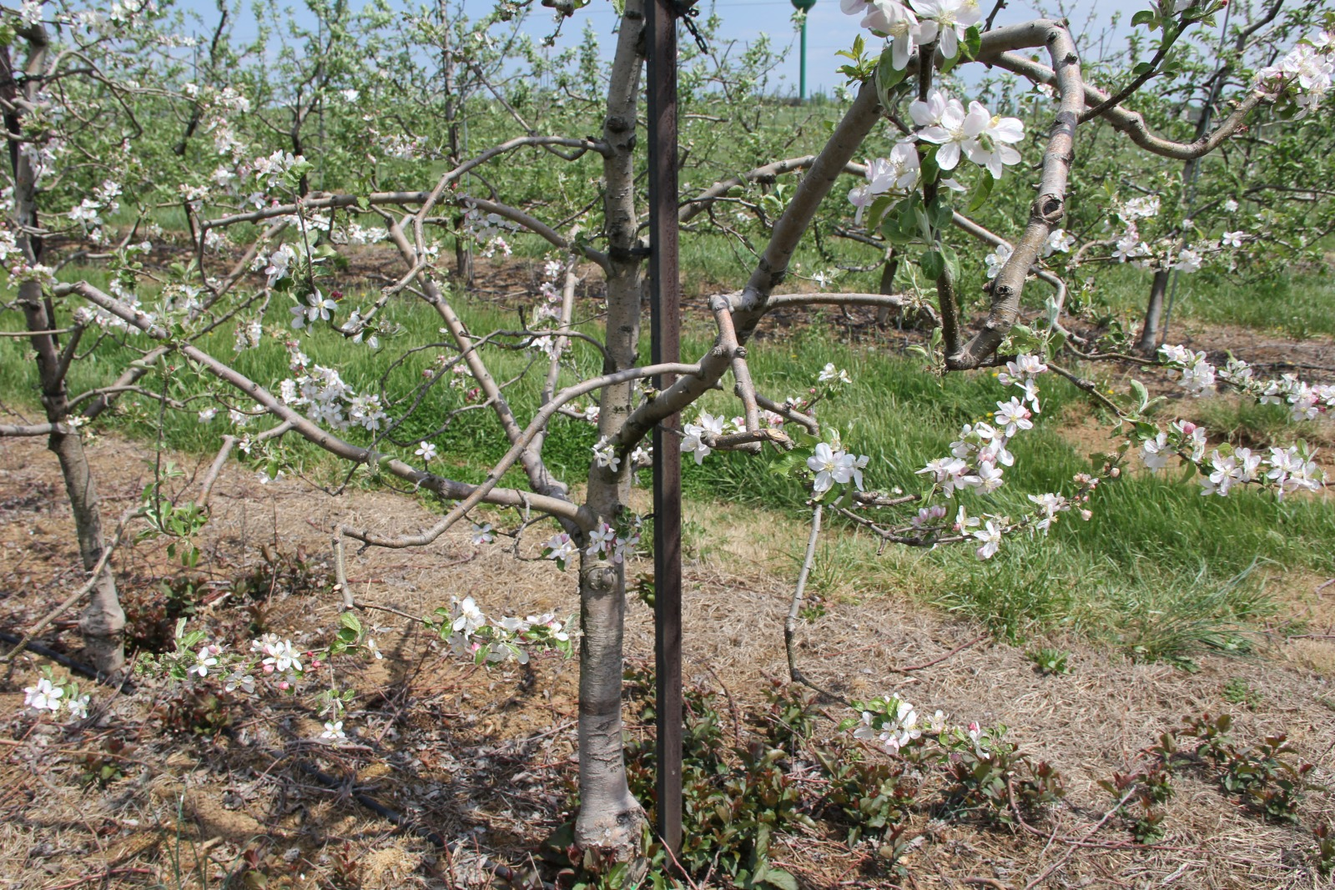flower: (848, 87, 1026, 220), (914, 353, 1048, 502), (841, 0, 981, 71), (280, 365, 385, 433), (1199, 445, 1322, 502), (1247, 43, 1335, 121), (1178, 351, 1252, 400), (1265, 374, 1335, 421), (807, 443, 869, 492), (1112, 199, 1155, 264), (676, 414, 730, 465), (253, 633, 303, 686), (446, 596, 486, 661), (879, 700, 923, 755), (488, 613, 569, 641), (254, 150, 305, 188), (1138, 430, 1177, 473), (1028, 492, 1071, 531), (264, 244, 299, 287), (1173, 420, 1207, 464), (971, 517, 1005, 561), (23, 678, 63, 710), (587, 435, 621, 472), (546, 533, 580, 567), (306, 287, 338, 322), (608, 532, 640, 566), (185, 645, 219, 677), (1172, 244, 1208, 274), (486, 641, 530, 665), (1041, 229, 1076, 258), (587, 524, 617, 556), (985, 245, 1013, 279), (965, 722, 988, 759), (913, 505, 947, 528), (955, 505, 980, 536), (1157, 344, 1189, 366), (226, 670, 256, 693), (1304, 29, 1335, 51), (854, 711, 877, 739), (68, 693, 90, 722), (469, 521, 494, 546), (340, 307, 362, 333), (320, 722, 347, 743), (927, 710, 950, 734), (1220, 231, 1252, 248), (289, 350, 311, 371), (531, 336, 552, 357), (762, 410, 784, 429), (415, 441, 436, 460), (461, 198, 478, 220), (545, 259, 563, 278), (819, 363, 835, 381), (731, 417, 747, 433), (632, 447, 647, 464), (1260, 396, 1281, 405), (511, 636, 528, 646), (292, 317, 304, 329), (839, 370, 849, 383), (1081, 510, 1092, 521), (292, 304, 305, 311), (1167, 369, 1176, 377), (375, 651, 383, 660), (369, 640, 374, 648), (601, 426, 604, 434)
